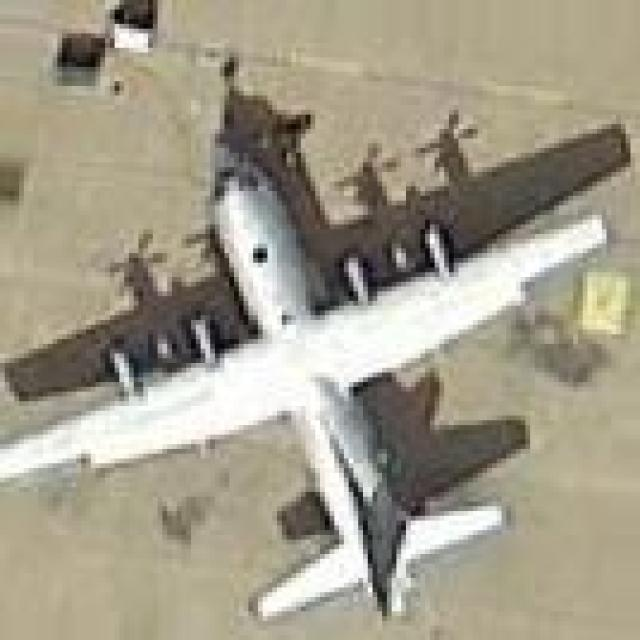C-130_TopDown: (0, 63, 627, 627)
